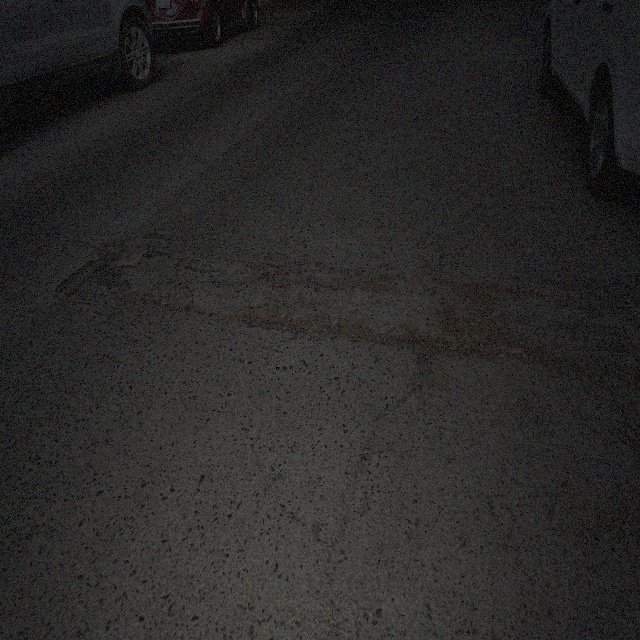pothole: (476, 320, 533, 360), (450, 277, 509, 306), (241, 301, 298, 327), (256, 262, 302, 286), (97, 242, 143, 262)
